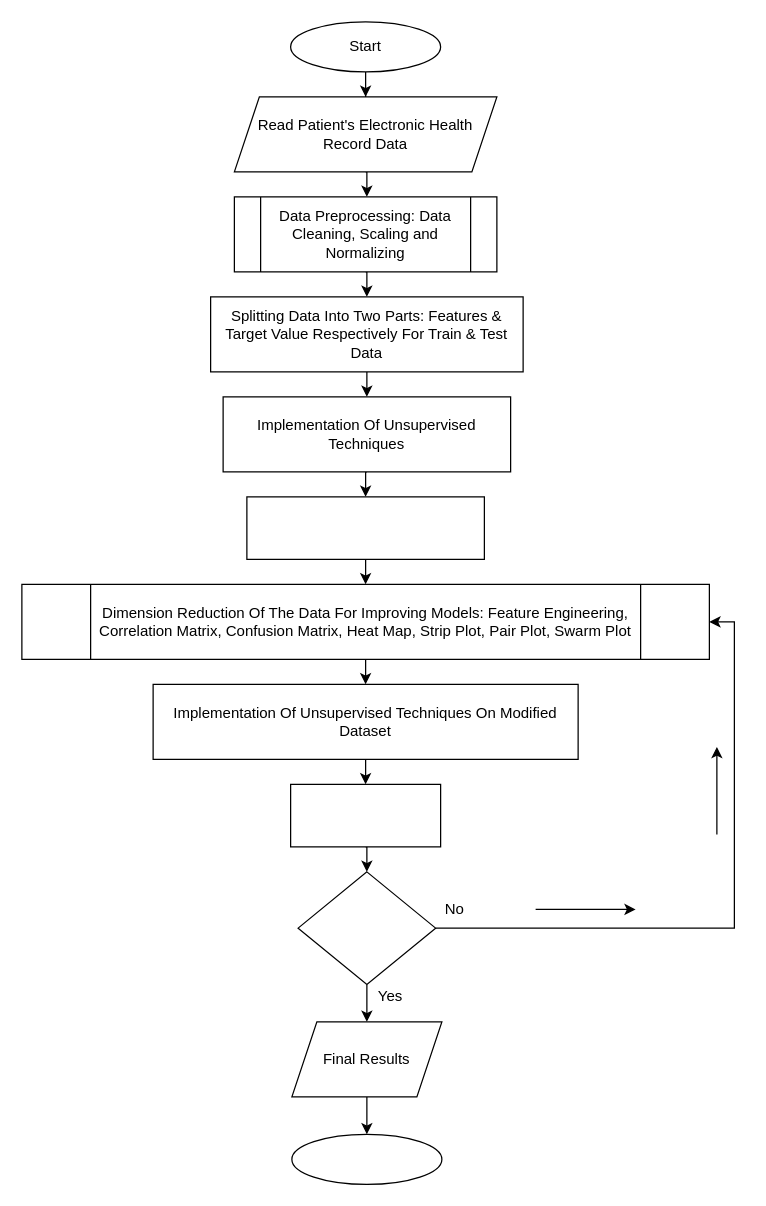
Image size: 766x1206. Some labels were removed from this diagram. The centre of each missing label's shape, as x and y in pixels:
"Comparison Of Results" belongs at point 365,815.
"End" belongs at point 366,1158.
"Evaluating Performance Of Model" belongs at point 365,527.
"Is the result improved?" belongs at point 366,927.
